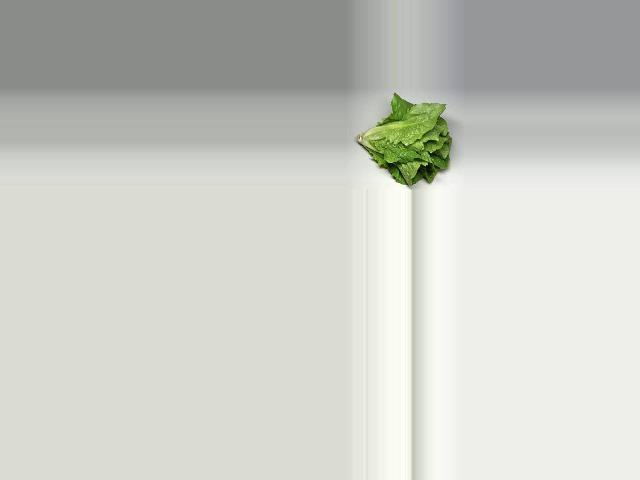lettuce: (354, 93, 452, 186)
